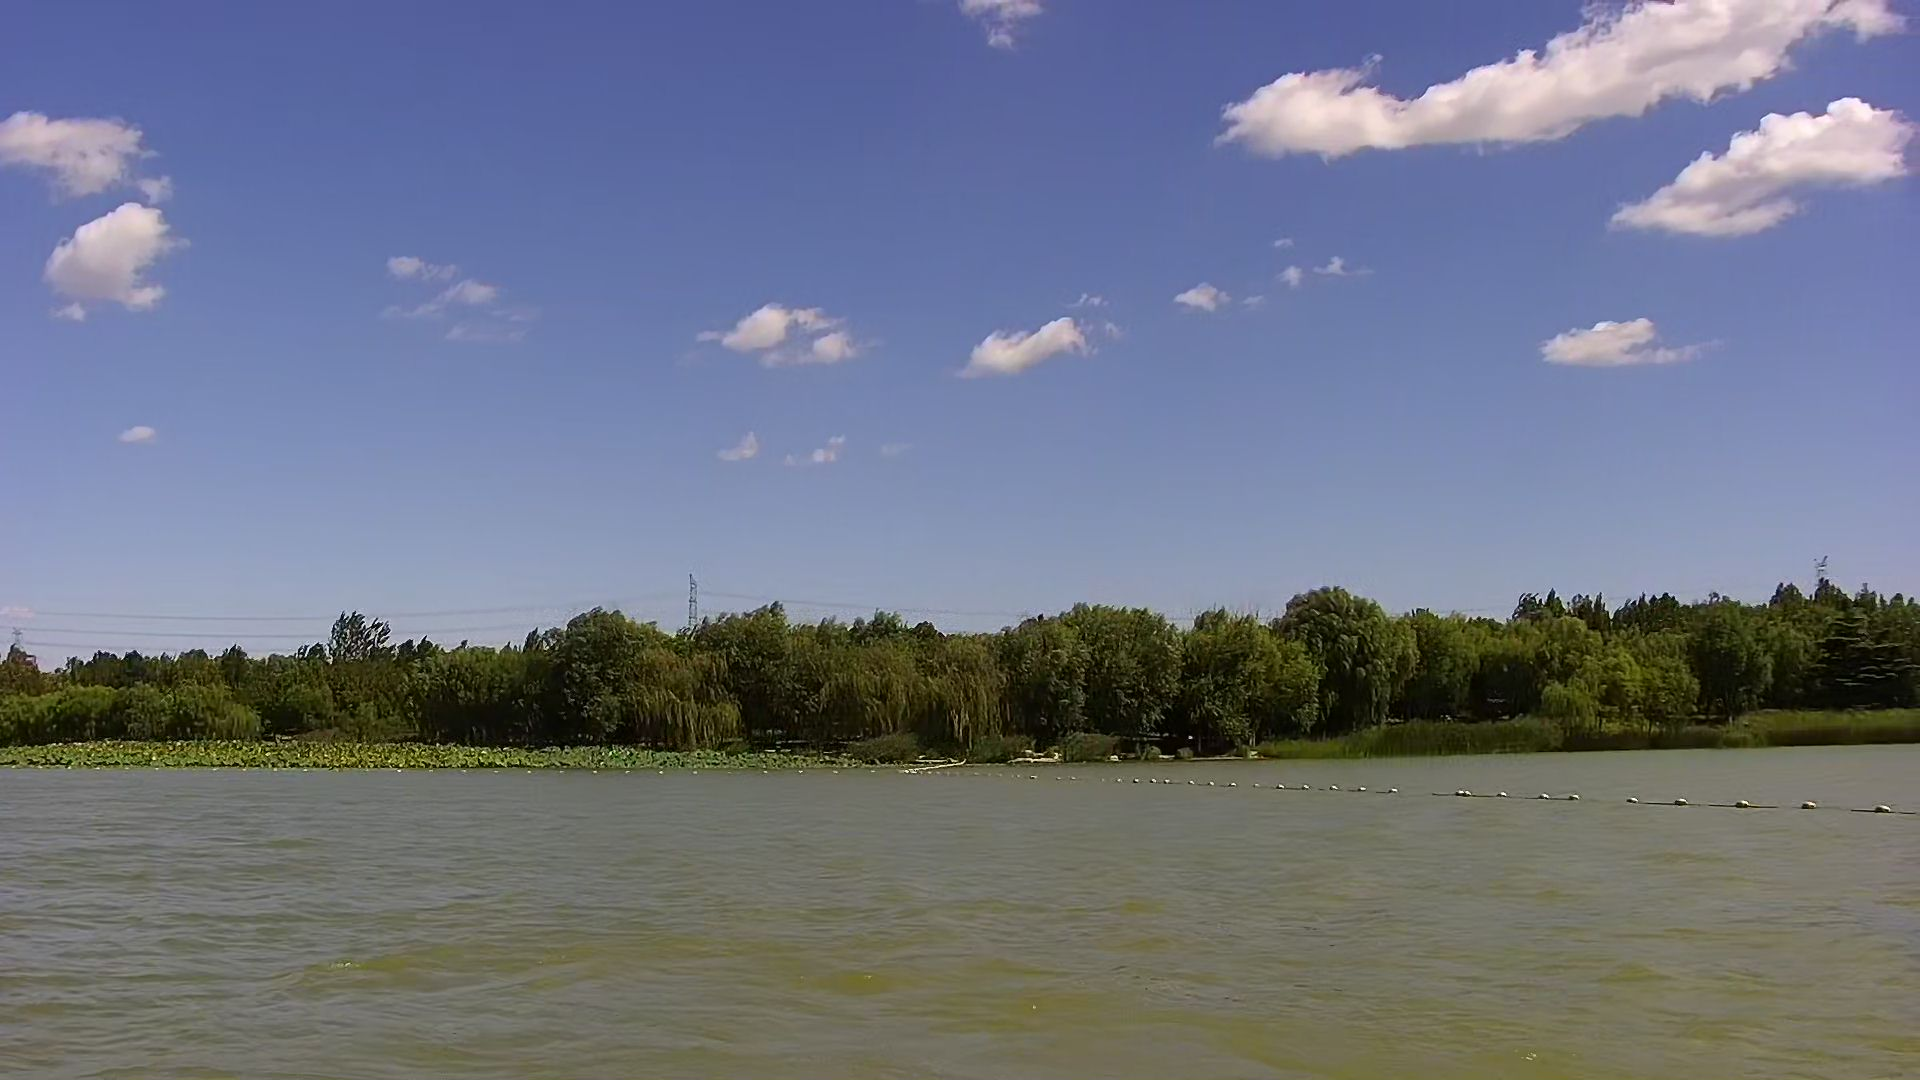ball: (1865, 786, 1898, 828), (1725, 782, 1767, 812), (1795, 786, 1833, 818), (1669, 782, 1698, 822)
